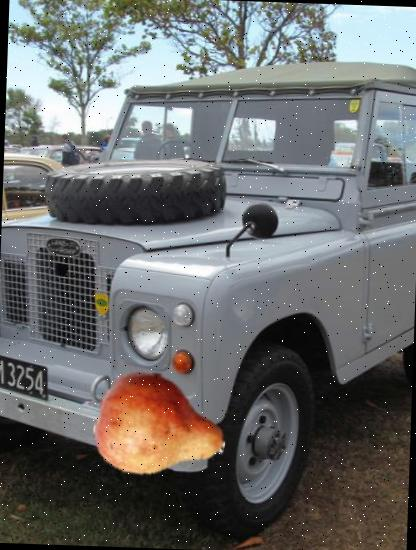Pear: (92, 357, 230, 495)
